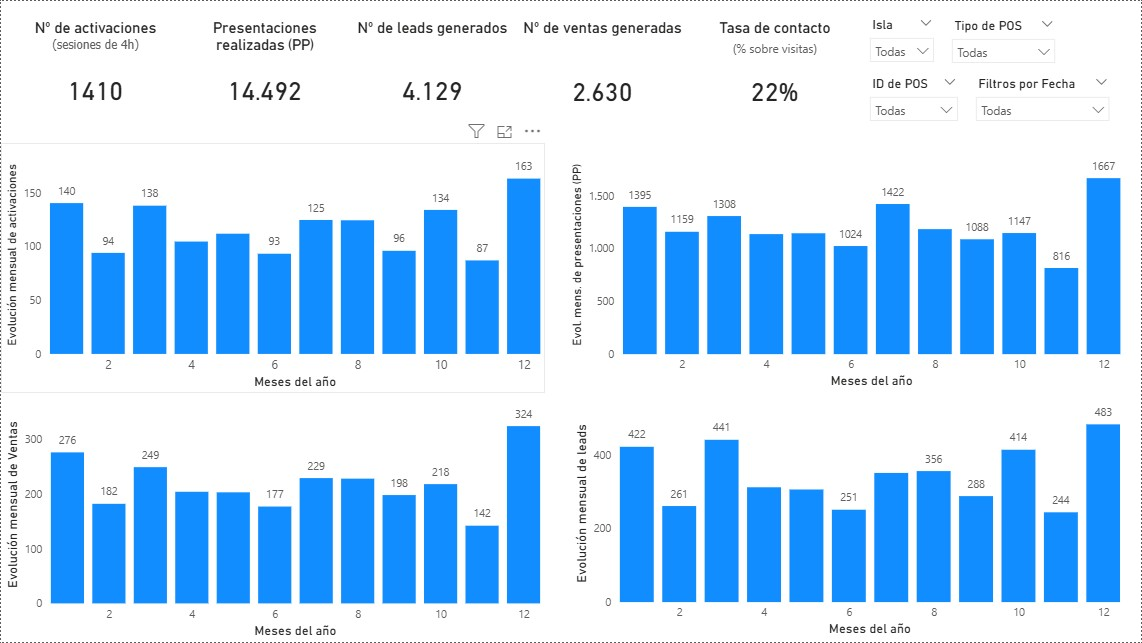

The dashboard page shown, as its layout file describes it:
{"tool":"powerbi","page":{"name":"Ejercicio 1 - Evolución","canvas":[1280,720],"ordinal":0},"visuals":[{"type":"card","title":"Nº de activaciones","fields":{"Values":["FACT_Operativa.Activaciones_Total"]},"box":[9.3,0,194.2,160.5],"z":0},{"type":"card","title":"Presentaciones realizadas (PP)","fields":{"Values":["FACT_Operativa.PP_Total"]},"box":[203.5,0,186,160.5],"z":1000},{"type":"card","title":"Nº de ventas generadas","fields":{"Values":["FACT_Operativa.Ventas_Total"]},"box":[579.1,0,194.2,160.5],"z":2000},{"type":"card","title":"Tasa de contacto","fields":{"Values":["FACT_Operativa.Contact_Rate_Avg"]},"box":[773.3,0,193,152.3],"z":3000},{"type":"card","title":"Nº de leads generados","fields":{"Values":["FACT_Operativa.Leads_Total"]},"box":[389.5,0,189.5,160.5],"z":4000},{"type":"columnChart","fields":{"Category":["FACT_Operativa.Month_Number"],"Y":["FACT_Operativa.Activaciones_Total"]},"box":[0,159,611,281],"z":5000},{"type":"columnChart","fields":{"Category":["FACT_Operativa.Month_Number"],"Y":["FACT_Operativa.Ventas_Total"]},"box":[0,440.6,610.7,279.4],"z":6000},{"type":"columnChart","fields":{"Category":["FACT_Operativa.Month_Number"],"Y":["FACT_Operativa.Leads_Total"]},"box":[639.5,439.5,623.3,279.1],"z":7000},{"type":"columnChart","fields":{"Category":["FACT_Operativa.Month_Number"],"Y":["FACT_Operativa.PP_Total"]},"box":[634.9,159.3,627.9,280.2],"z":8000},{"type":"slicer","fields":{"Values":["FACT_Operativa.Island"]},"box":[966.3,14,91.9,61.6],"z":11000},{"type":"slicer","fields":{"Values":["FACT_Operativa.POS TYPE"]},"box":[1058.1,15.1,136,60.5],"z":12000},{"type":"slicer","fields":{"Values":["FACT_Operativa.POS_ID"]},"box":[966.3,80.2,118.6,64],"z":13000},{"type":"slicer","fields":{"Values":["FACT_Operativa.Date.Variación.Jerarquía de fechas.Trimestre","FACT_Operativa.Date.Variación.Jerarquía de fechas.Mes","FACT_Operativa.WeekOfYear"]},"box":[1085.6,80,170,72.2],"z":13001}]}

Visuals, with their boxes in screenshot pixels (x1, y1, x2, y2), scaled from the page's 1280x720 canvas onto the 1142x643 screenshot:
"Nº de activaciones" card: 8/0/182/143
"Presentaciones realizadas (PP)" card: 182/0/348/143
"Nº de ventas generadas" card: 517/0/690/143
"Tasa de contacto" card: 690/0/862/136
"Nº de leads generados" card: 348/0/517/143
columnChart - FACT_Operativa.Month_Number x FACT_Operativa.Activaciones_Total: 0/142/545/393
columnChart - FACT_Operativa.Month_Number x FACT_Operativa.Ventas_Total: 0/393/545/642
columnChart - FACT_Operativa.Month_Number x FACT_Operativa.Leads_Total: 571/392/1127/642
columnChart - FACT_Operativa.Month_Number x FACT_Operativa.PP_Total: 566/142/1127/392
slicer - FACT_Operativa.Island: 862/13/944/68
slicer - FACT_Operativa.POS TYPE: 944/13/1065/68
slicer - FACT_Operativa.POS_ID: 862/72/968/129
slicer - FACT_Operativa.Date.Variación.Jerarquía de fechas.Trimestre x FACT_Operativa.Date.Variación.Jerarquía de fechas.Mes: 969/71/1120/136
